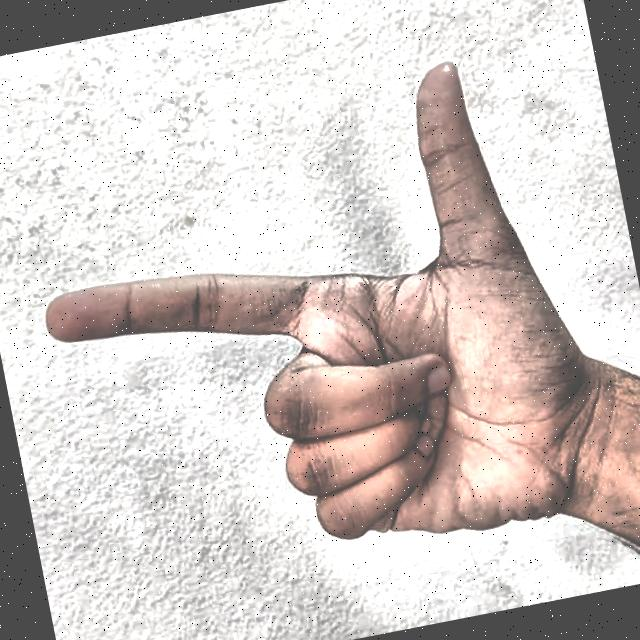Tha: (0, 17, 629, 640)
